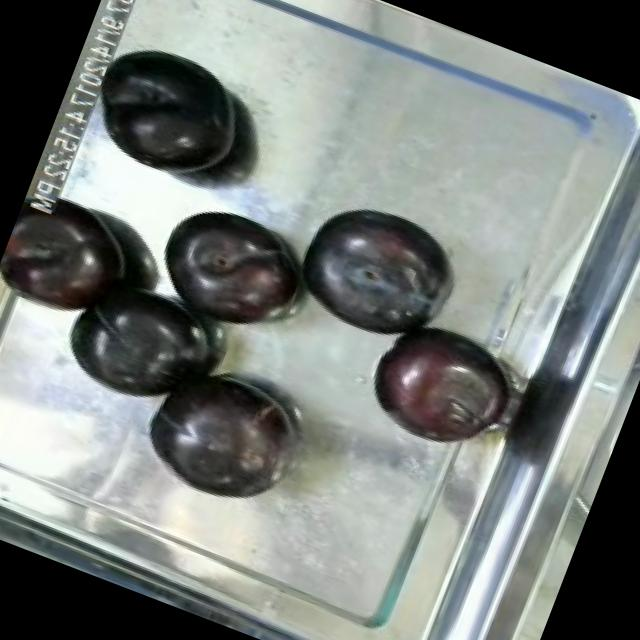Fruit: (70, 24, 268, 205), (120, 342, 320, 521), (278, 182, 468, 358), (138, 187, 328, 354), (45, 268, 224, 424), (350, 303, 522, 463), (0, 200, 134, 332)
